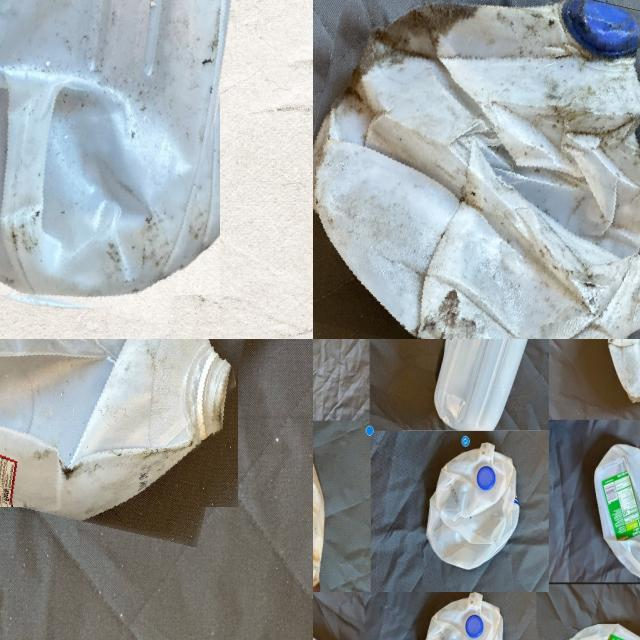milk-jug: (313, 0, 640, 339), (0, 0, 242, 310), (0, 339, 253, 527), (427, 442, 519, 570), (429, 339, 531, 423), (583, 450, 640, 580), (410, 596, 514, 640), (557, 619, 640, 640)
